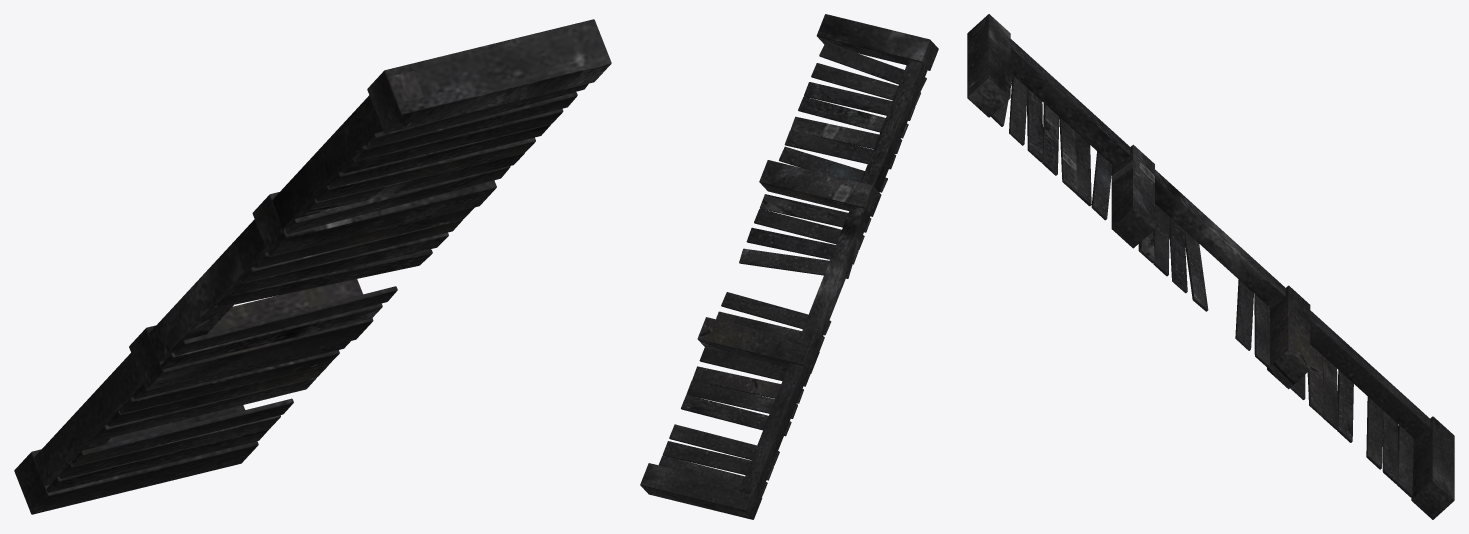
File: SM_Horror_Attic_Roof.fbx
The picture shows the model from 3 angles, left to right: view 1: azimuth 30°, elevation 25°; view 2: azimuth 150°, elevation 25°; view 3: azimuth 270°, elevation 25°; orthographic projection. The views are drawn at different scales.
Parts seen in each view (by area): view 1: SM_Horror_Attic_Roof; view 2: SM_Horror_Attic_Roof; view 3: SM_Horror_Attic_Roof.
Boxes of the visible parts, x1,y1,x2,y2 form: SM_Horror_Attic_Roof: [14, 19, 611, 514]; SM_Horror_Attic_Roof: [640, 14, 938, 519]; SM_Horror_Attic_Roof: [967, 14, 1454, 519].
Size of the model in its own units: 157 by 493 by 493.
Materials: 1 (1 with a texture image).
